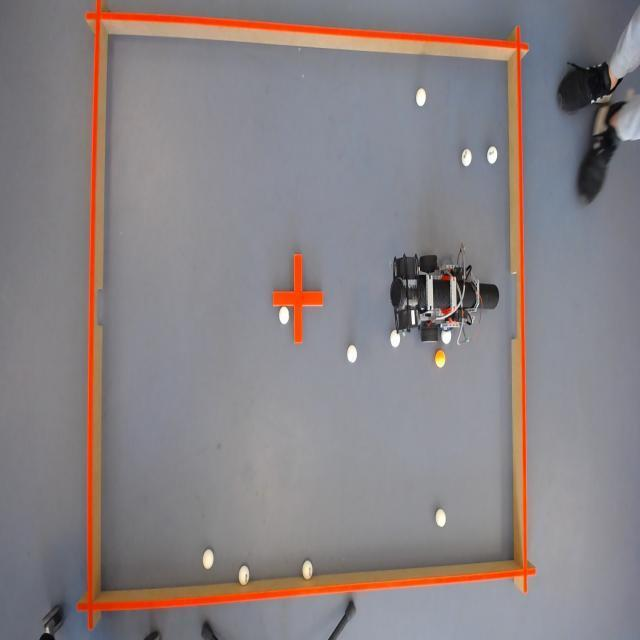orange: (433, 349, 448, 367)
robot: (392, 248, 492, 346)
white: (237, 565, 250, 589), (300, 558, 314, 580), (202, 547, 214, 570), (414, 86, 427, 107), (435, 507, 447, 528), (388, 328, 400, 349), (484, 146, 498, 164), (346, 342, 358, 362), (459, 150, 472, 168), (278, 305, 288, 324)
